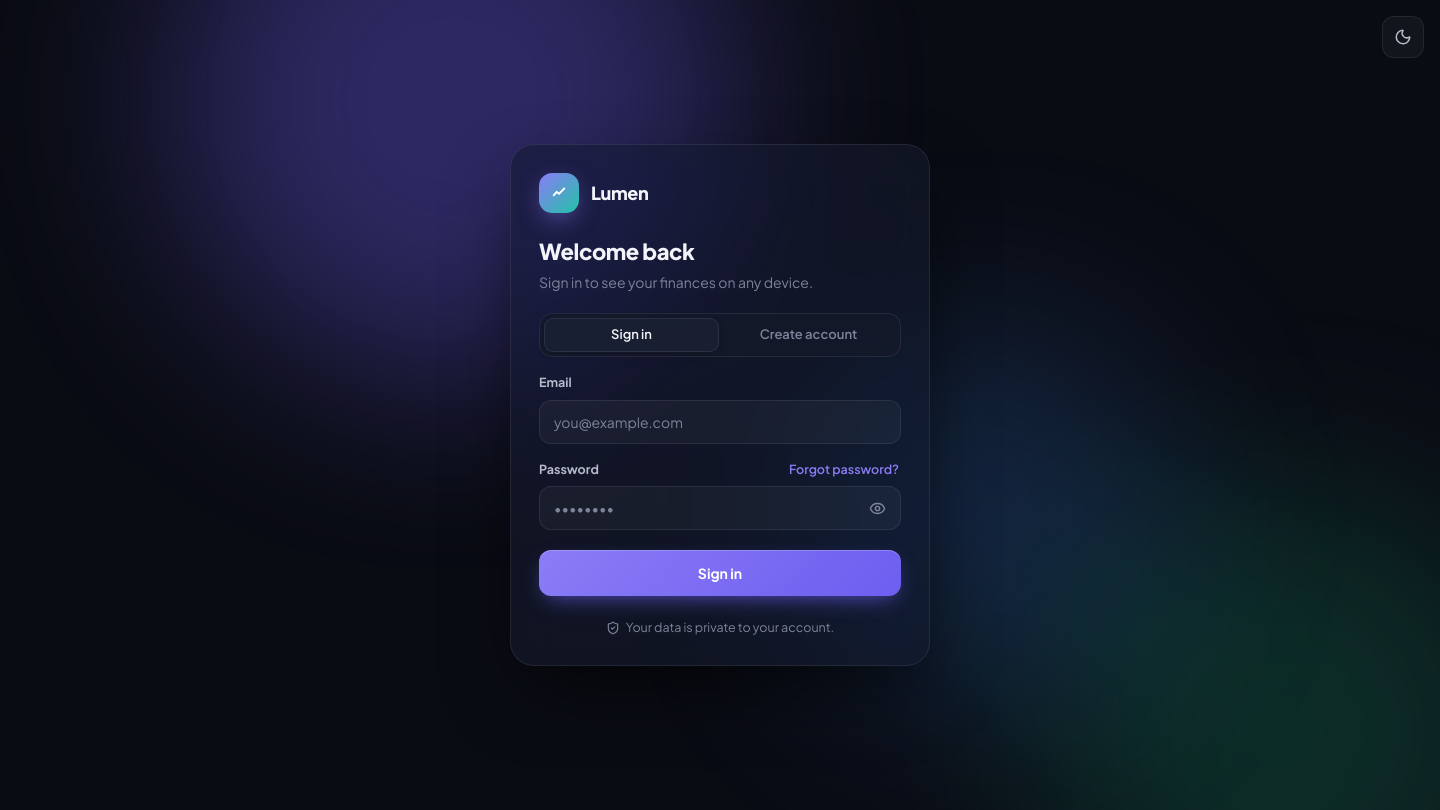
Scenario: Sign in › validates the form before contacting the server
The image size is (1440, 810).
Expected: the heading "Welcome back" is shown, [539,237,694,265]
Type "not-an-email" into the field with placeholder "you@example.com". click: (720, 422)
box: [539,400,901,444]
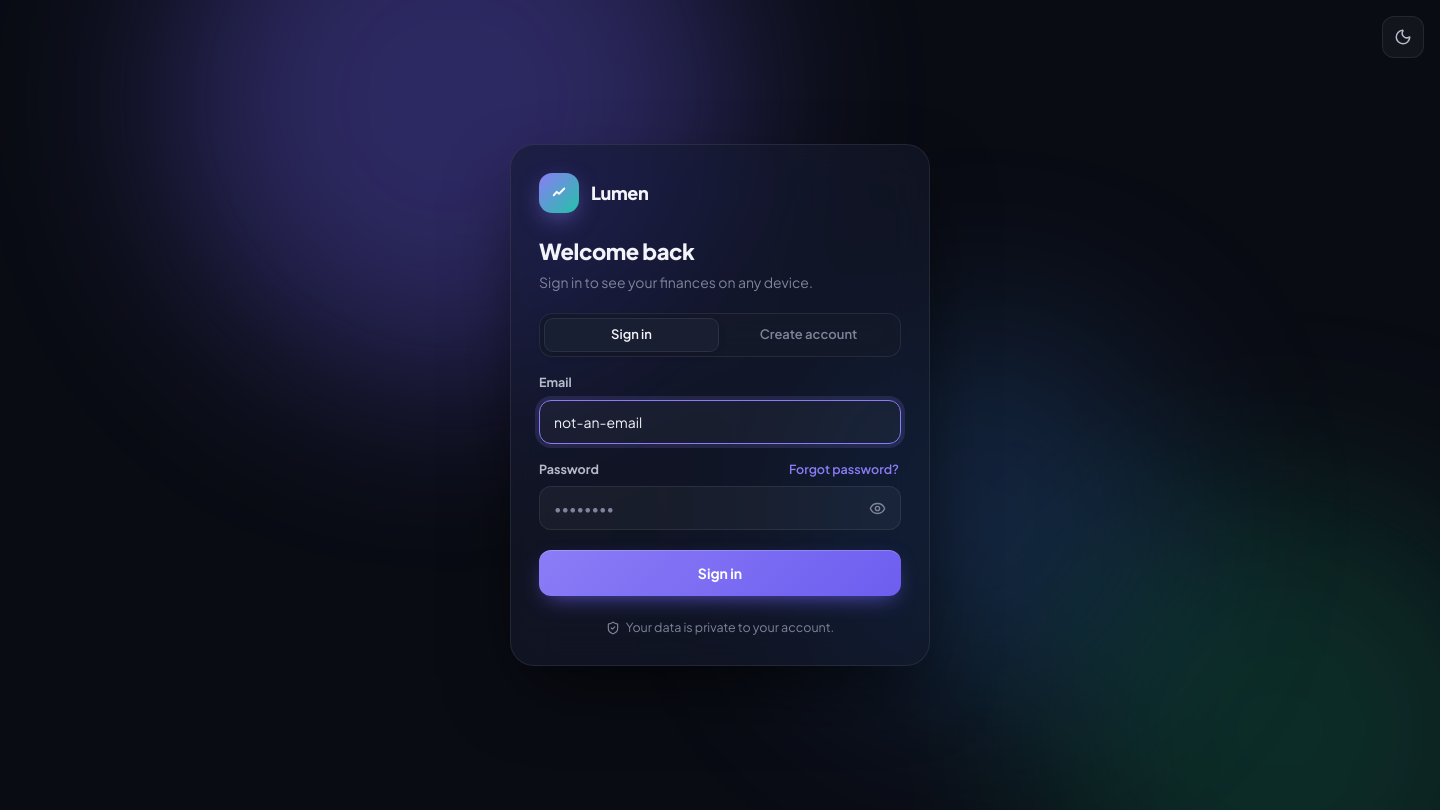
Click the button "Sign in". click: (720, 573)
box: [539,550,901,596]
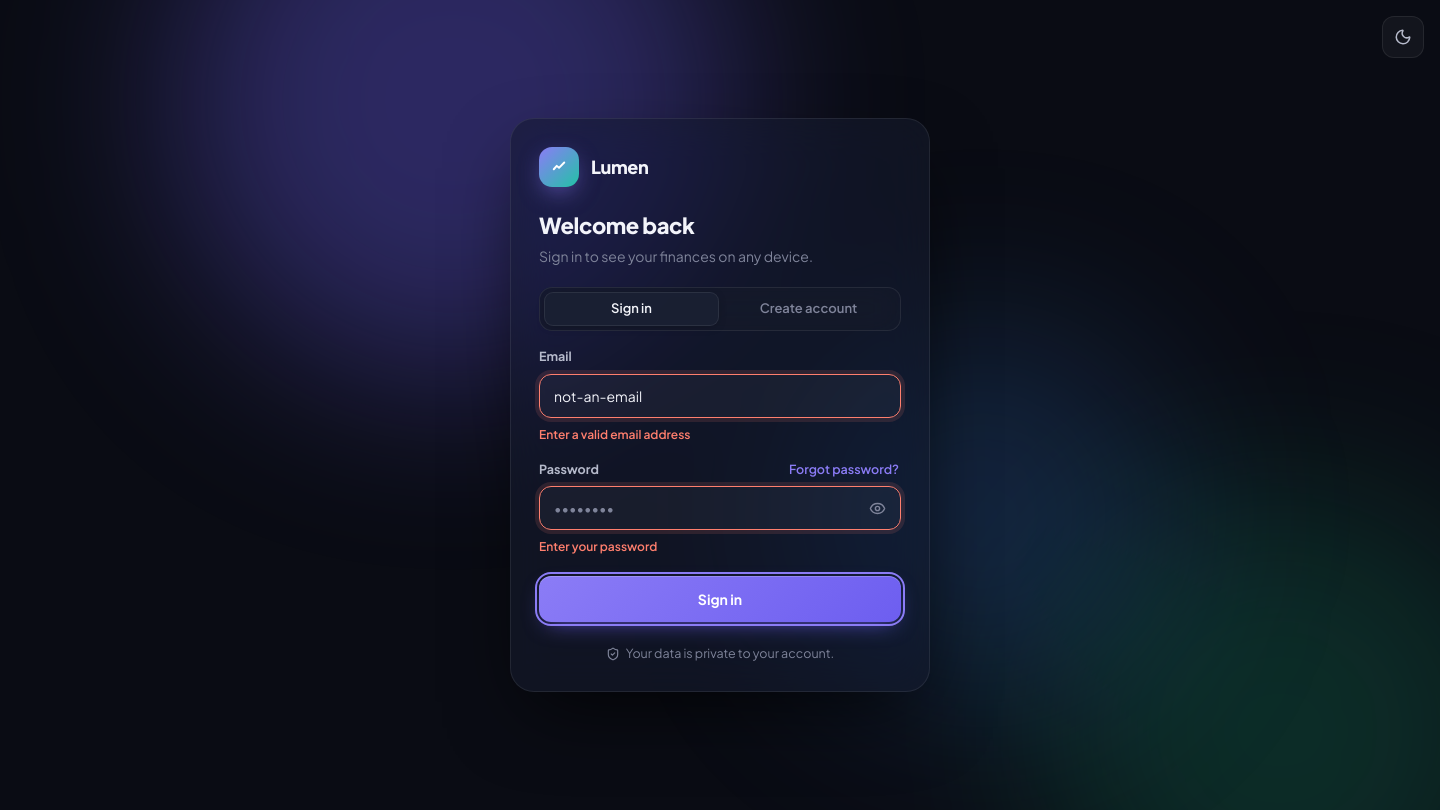
Expected: the text "Enter a valid email address" is shown, [539,427,690,442]
Expected: the text "Enter your password" is shown, [539,539,657,554]
